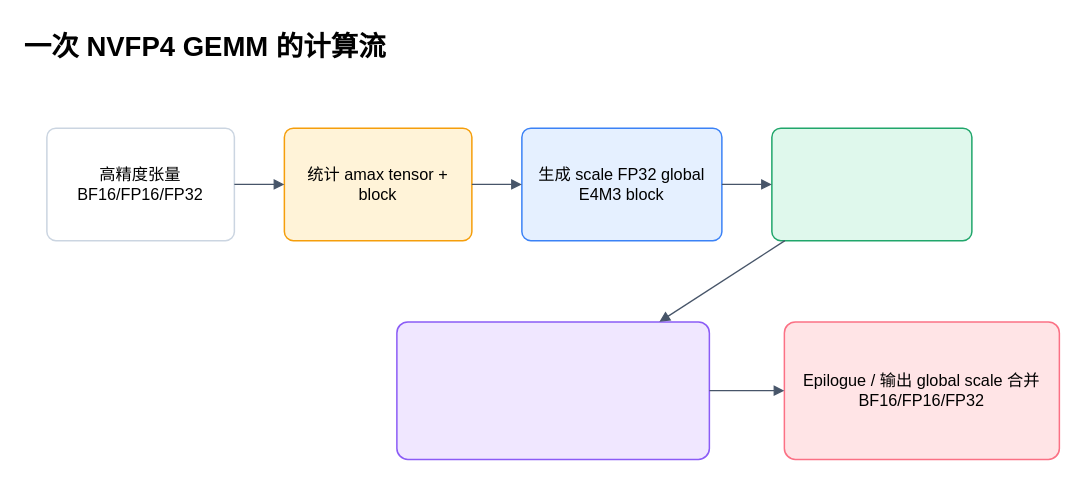
Image size: 1081x481. Some labels were removed from this diagram. The shapes that lost their labels are listed below. From the top down, each one's box as (x1, y1, x2, y2) in pixels, then its label:
(770, 127, 972, 241): pack FP4 E2M1 payload 2 values/byte
(396, 320, 709, 460): Blackwell Tensor Core 读取 FP4 + scales block-scaled MMA 高精度累加
